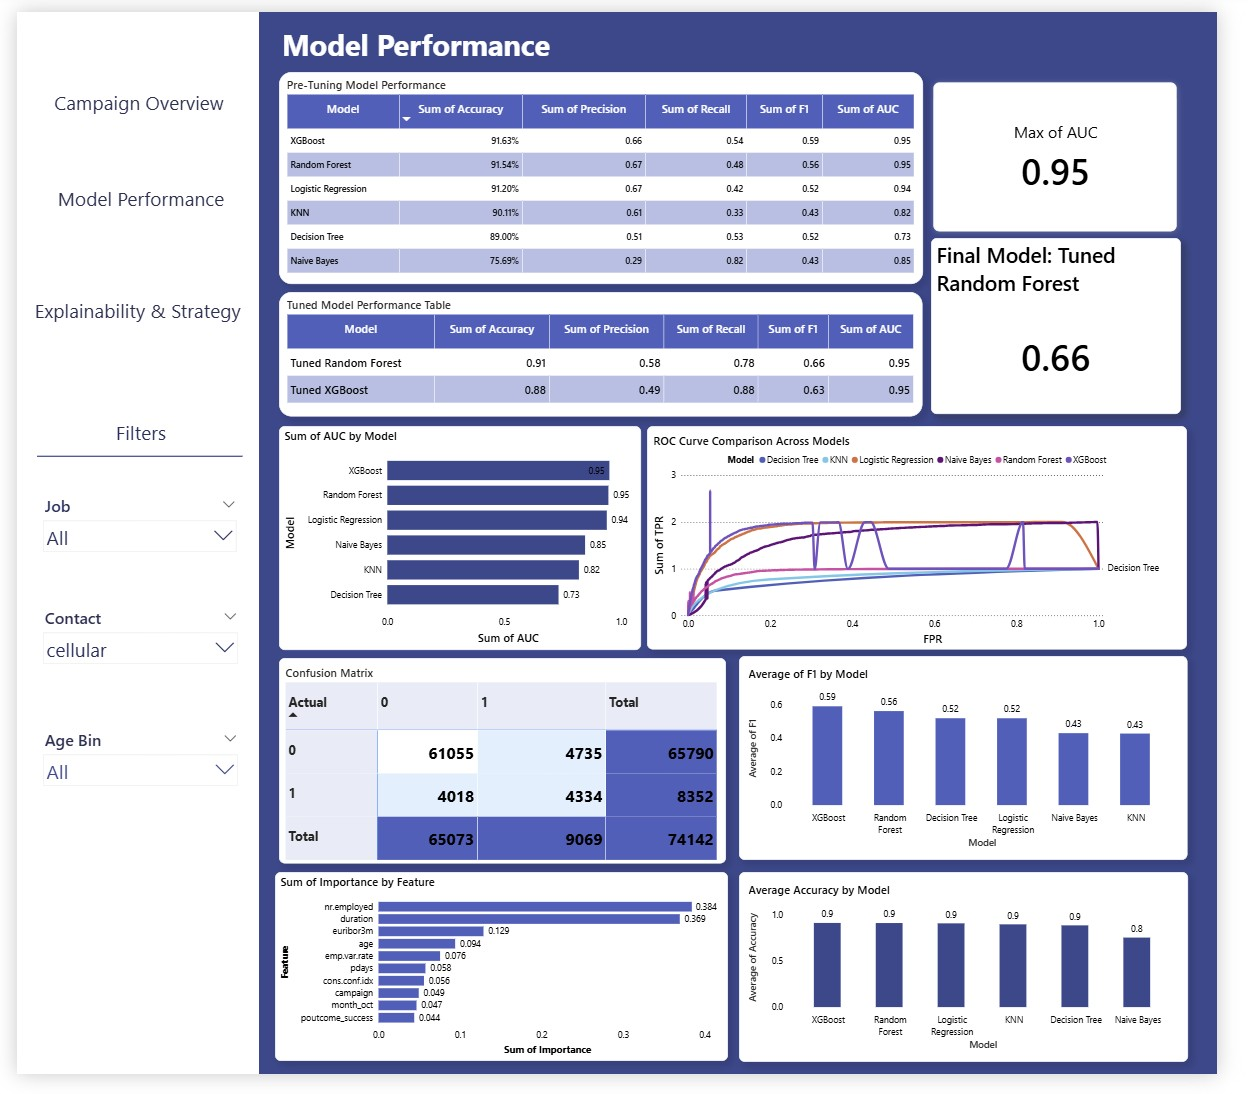

The dashboard page shown, as its layout file describes it:
{"tool":"powerbi","page":{"name":"Page 2","canvas":[2000,1770],"ordinal":1},"visuals":[{"type":"cardVisual","title":"Best Performing Model","fields":{"Data":["Max(model_performance.AUC)"]},"box":[1510,100,440,283.3],"z":0},{"type":"shape","box":[0,0,403.3,1770],"z":1000},{"type":"tableEx","title":"Pre-Tuning Model Performance","fields":{"Values":["model_performance.Model","Sum(model_performance.Accuracy)","Sum(model_performance.Precision)","Sum(model_performance.Recall)","Sum(model_performance.F1)","Sum(model_performance.AUC)"]},"box":[436.7,100,1073.3,353.3],"z":2000},{"type":"clusteredBarChart","fields":{"Category":["model_performance.Model"],"Y":["Sum(model_performance.AUC)"]},"box":[436.7,690,603.3,373.3],"z":3000},{"type":"lineChart","title":"ROC Curve Comparison Across Models","fields":{"Y":["Sum(roc_curves.TPR)"],"Series":["model_performance.Model"],"Category":["roc_curves.FPR"]},"box":[1050,690,900,372.5],"z":4000},{"type":"pivotTable","title":"Confusion Matrix","fields":{"Rows":["confusion_matrices.Actual"],"Columns":["confusion_matrices.Predicted"],"Values":["Sum(confusion_matrices.Count)"]},"box":[437.5,1075,745,342.5],"z":5000},{"type":"clusteredBarChart","fields":{"Category":["feature_importance.Feature"],"Y":["Sum(feature_importance.Importance)"]},"box":[428.3,1433.3,755,315],"z":6000},{"type":"clusteredColumnChart","title":"Average of F1 by Model","fields":{"Category":["model_performance.Model"],"Y":["Avg(model_performance.F1)"]},"box":[1202.5,1072.5,747.5,340],"z":7000},{"type":"clusteredColumnChart","title":"Average Accuracy by Model","fields":{"Category":["model_performance.Model"],"Y":["Avg(model_performance.Accuracy)"]},"box":[1203.3,1433.3,748.3,316.7],"z":8000},{"type":"slicer","fields":{"Values":["bank_marketing_bi_raw.contact"]},"box":[32.5,988.2,345,157.2],"z":9000},{"type":"slicer","fields":{"Values":["bank_marketing_bi_raw.job"]},"box":[32.5,798.9,342.5,157.2],"z":10000},{"type":"slicer","fields":{"Values":["bank_marketing_bi_raw.Age Bin"]},"box":[32.5,1190.3,345,160.4],"z":11000},{"type":"textbox","box":[42.5,121.9,320,73.8],"z":12000},{"type":"textbox","box":[56.7,283.3,300,76.7],"z":13000},{"type":"textbox","box":[10,468.4,382.5,89.8],"z":14000},{"type":"textbox","box":[56.7,673.3,300,73.3],"z":15000},{"type":"shape","box":[32.5,709,342.5,61],"z":16000},{"type":"textbox","box":[436.7,16.7,1043.3,83.3],"z":17000},{"type":"tableEx","title":"Tuned Model Performance Table","fields":{"Values":["tuned_model_performance.Model","Sum(tuned_model_performance.Accuracy)","Sum(tuned_model_performance.Precision)","Sum(tuned_model_performance.Recall)","Sum(tuned_model_performance.F1)","Sum(tuned_model_performance.AUC)"]},"box":[437.5,467.5,1072.5,207.5],"z":18000},{"type":"cardVisual","title":"Final Model: Tuned Random Forest","fields":{"Data":["Max(tuned_model_performance.F1)"]},"box":[1523.3,376.7,416.7,293.3],"z":19000}]}

Visuals, with their boxes on the page's 2000x1770 design canvas (x1, y1, x2, y2). These are canvas units, not pixel positions in the 1248x1094 screenshot, which may show the page scaled, cropped or inside an application window:
"Best Performing Model" cardVisual: (1510, 100, 1950, 383)
shape: (0, 0, 403, 1770)
"Pre-Tuning Model Performance" tableEx: (437, 100, 1510, 453)
clusteredBarChart - model_performance.Model x Sum(model_performance.AUC): (437, 690, 1040, 1063)
"ROC Curve Comparison Across Models" lineChart: (1050, 690, 1950, 1062)
"Confusion Matrix" pivotTable: (438, 1075, 1182, 1418)
clusteredBarChart - feature_importance.Feature x Sum(feature_importance.Importance): (428, 1433, 1183, 1748)
"Average of F1 by Model" clusteredColumnChart: (1202, 1072, 1950, 1412)
"Average Accuracy by Model" clusteredColumnChart: (1203, 1433, 1952, 1750)
slicer - bank_marketing_bi_raw.contact: (32, 988, 378, 1145)
slicer - bank_marketing_bi_raw.job: (32, 799, 375, 956)
slicer - bank_marketing_bi_raw.Age Bin: (32, 1190, 378, 1351)
textbox: (42, 122, 362, 196)
textbox: (57, 283, 357, 360)
textbox: (10, 468, 392, 558)
textbox: (57, 673, 357, 747)
shape: (32, 709, 375, 770)
textbox: (437, 17, 1480, 100)
"Tuned Model Performance Table" tableEx: (438, 468, 1510, 675)
"Final Model: Tuned Random Forest" cardVisual: (1523, 377, 1940, 670)
